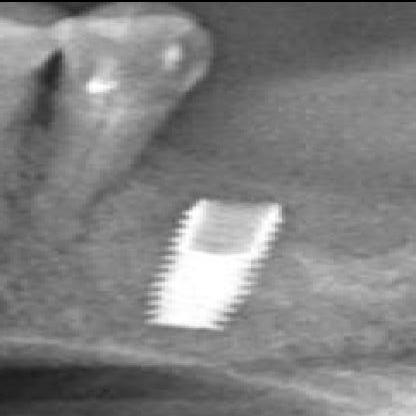Bicon: (154, 196, 280, 340)
